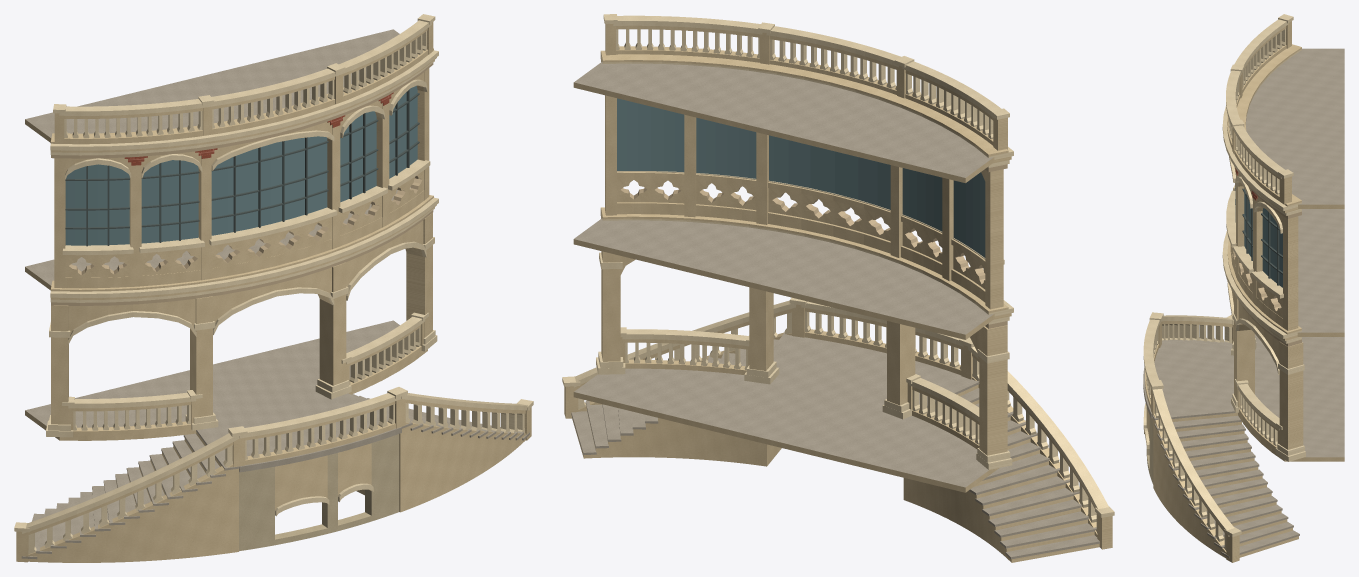
The picture shows the model from 3 angles, left to right: view 1: azimuth 30°, elevation 25°; view 2: azimuth 150°, elevation 25°; view 3: azimuth 270°, elevation 25°; orthographic projection. The views are drawn at different scales.
Visible parts, largest first — view 1: 01_Basement_ceiling_and_arcade_floor, 06_west_stair.risers, 03_Open_roof_terrace, 21_Glazed_bay_02.glass, 04_Basement_front_piers, 06_east_stair.risers, 06_west_stair.treads, 21_Glazed_bay_00.glass, 21_Glazed_bay_01.glass, 06_west_stair.raking_rail.rails, 05_Landing_slab, 10_Arcade_pier_02 (+67 smaller); view 2: 01_Basement_ceiling_and_arcade_floor, 02_Loggia_ceiling_and_upper_floor, 03_Open_roof_terrace, 06_west_stair.treads, 06_west_stair.risers, 05_Landing_slab, 21_Glazed_bay_02.glass, 06_east_stair.risers, 21_Glazed_bay_04.glass, 10_Arcade_pier_00, 30_String_course_1.4, 06_east_stair.treads (+43 smaller); view 3: 03_Open_roof_terrace, 06_east_stair.treads, 01_Basement_ceiling_and_arcade_floor, 02_Loggia_ceiling_and_upper_floor, 06_east_stair.risers, 05_Landing_slab, 10_Arcade_pier_03, 06_east_stair.raking_rail.rails, 20_Upper_window_pier_05, 10_Arcade_pier_02, 06_west_stair.raking_rail.balusters, 30_String_course_1.4 (+30 smaller).
Part boxes in pixels (x1,y1,x2,y2): 01_Basement_ceiling_and_arcade_floor: [25, 320, 427, 440]; 06_west_stair.risers: [28, 432, 238, 562]; 03_Open_roof_terrace: [25, 29, 399, 142]; 21_Glazed_bay_02.glass: [211, 136, 327, 235]; 04_Basement_front_piers: [239, 434, 399, 551]; 06_east_stair.risers: [356, 427, 525, 512]; 06_west_stair.treads: [21, 428, 239, 559]; 21_Glazed_bay_00.glass: [65, 164, 129, 245]; 21_Glazed_bay_01.glass: [141, 160, 198, 243]; 06_west_stair.raking_rail.rails: [22, 433, 239, 559]; 05_Landing_slab: [209, 397, 401, 472]; 10_Arcade_pier_02: [315, 262, 351, 399]; 01_Basement_ceiling_and_arcade_floor: [573, 368, 998, 492]; 02_Loggia_ceiling_and_upper_floor: [573, 218, 994, 339]; 03_Open_roof_terrace: [573, 62, 994, 183]; 06_west_stair.treads: [919, 378, 1099, 559]; 06_west_stair.risers: [903, 384, 1099, 562]; 05_Landing_slab: [776, 337, 965, 400]; 21_Glazed_bay_02.glass: [769, 135, 890, 209]; 06_east_stair.risers: [572, 410, 781, 466]; 21_Glazed_bay_04.glass: [617, 98, 684, 172]; 10_Arcade_pier_00: [976, 325, 1012, 469]; 30_String_course_1.4: [601, 51, 1008, 156]; 06_east_stair.treads: [571, 332, 797, 455]; 03_Open_roof_terrace: [1245, 48, 1344, 208]; 06_east_stair.treads: [1152, 406, 1299, 558]; 01_Basement_ceiling_and_arcade_floor: [1229, 334, 1344, 461]; 02_Loggia_ceiling_and_upper_floor: [1297, 209, 1344, 336]; 06_east_stair.risers: [1153, 412, 1298, 558]; 05_Landing_slab: [1143, 346, 1233, 418]; 10_Arcade_pier_03: [1275, 342, 1305, 461]; 06_east_stair.raking_rail.rails: [1151, 388, 1234, 553]; 20_Upper_window_pier_05: [1283, 216, 1298, 330]; 10_Arcade_pier_02: [1231, 294, 1254, 412]; 06_west_stair.raking_rail.balusters: [1162, 324, 1232, 343]; 30_String_course_1.4: [1237, 44, 1301, 206].
Bounding box in the file's own units: 16.42 × 12.5 × 6.35.
9 materials, 5 textured.
